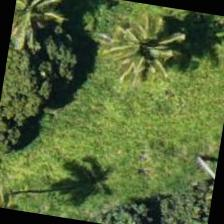Kelapa_Sawit: (92, 1, 195, 104), (161, 115, 223, 212), (7, 0, 78, 67), (0, 159, 51, 214)
